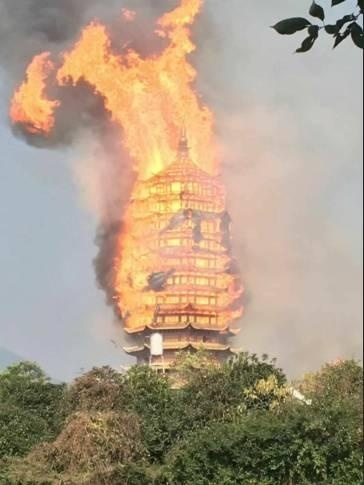fire: (58, 3, 275, 352), (9, 52, 57, 133)
